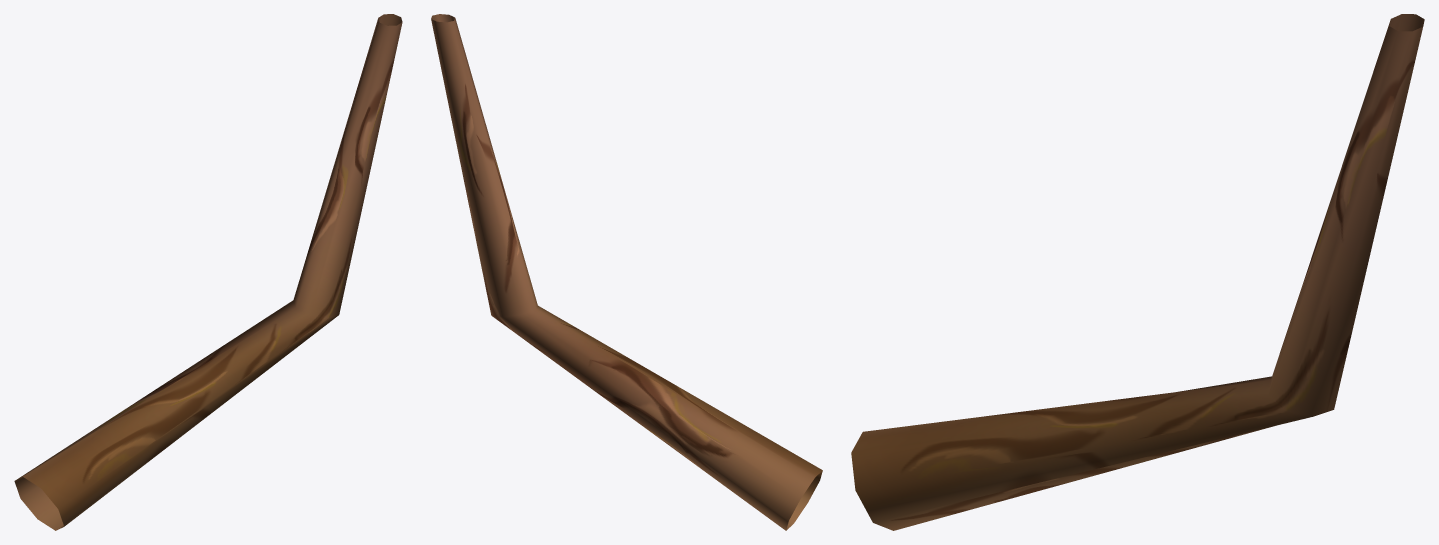
The model's file is Rama_1.fbx.
3 renders of one model, left to right at view 1: azimuth 30°, elevation 25°; view 2: azimuth 150°, elevation 25°; view 3: azimuth 330°, elevation 25°, orthographic. The views are drawn at different scales.
Parts seen in each view (by area): view 1: Rama_1; view 2: Rama_1; view 3: Rama_1.
Part boxes in pixels (x1,y1,x2,y2): Rama_1: (14,14,402,530); Rama_1: (431,14,822,530); Rama_1: (851,14,1424,530).
Size of the model in its own units: 406 by 434 by 63.64.
